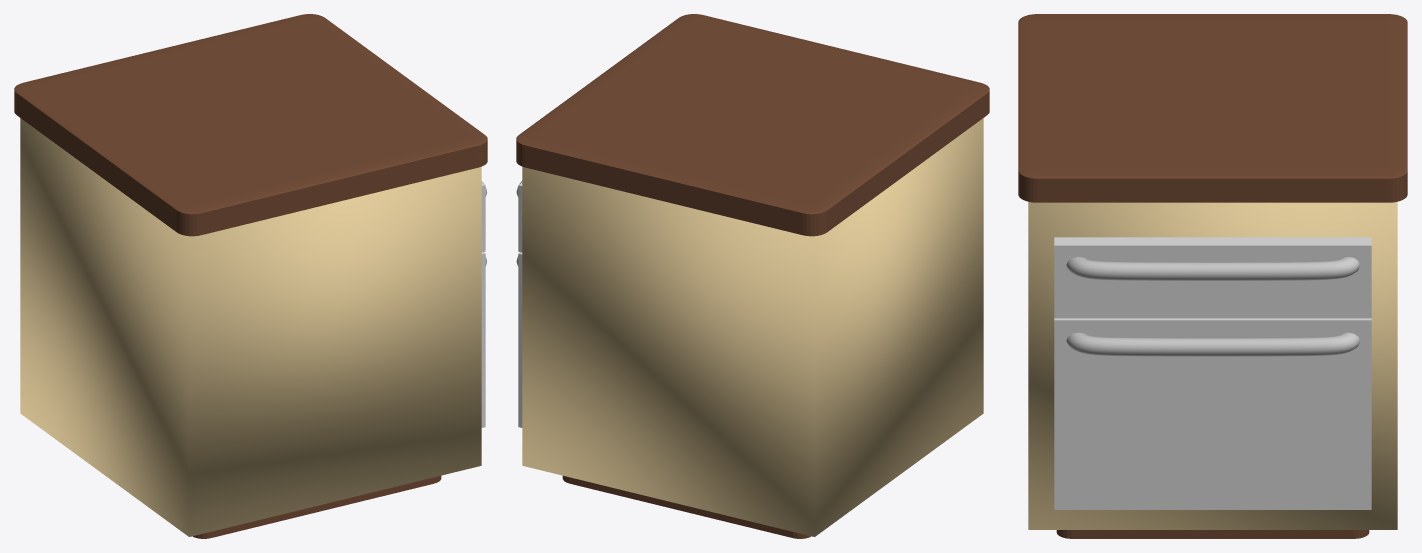
The model's file is Simple.fbx.
3 views of the same model, side by side, from view 1: azimuth 30°, elevation 25°; view 2: azimuth 150°, elevation 25°; view 3: azimuth 270°, elevation 25° (orthographic). The views are drawn at different scales.
Parts seen in each view (by area): view 1: Cube, Cube.004, Cube.003, Cube.001; view 2: Cube, Cube.004, Cube.003, Cube.001; view 3: Cube.004, Cube.001, Cube, Cube.002, NurbsPath.001, NurbsPath, Cube.003.
Boxes of the visible parts, x1,y1,x2,y2 form: Cube: [20, 118, 481, 536]; Cube.004: [14, 14, 487, 236]; Cube.003: [193, 475, 441, 538]; Cube.001: [481, 252, 485, 427]; Cube: [522, 118, 983, 536]; Cube.004: [516, 14, 989, 236]; Cube.003: [562, 475, 810, 538]; Cube.001: [518, 252, 522, 427]; Cube.004: [1018, 14, 1407, 202]; Cube.001: [1054, 318, 1371, 509]; Cube: [1028, 202, 1397, 529]; Cube.002: [1054, 237, 1371, 318]; NurbsPath.001: [1066, 332, 1359, 356]; NurbsPath: [1066, 257, 1359, 280]; Cube.003: [1056, 530, 1369, 538].
Size of the model in its own units: 230 by 227 by 211.
